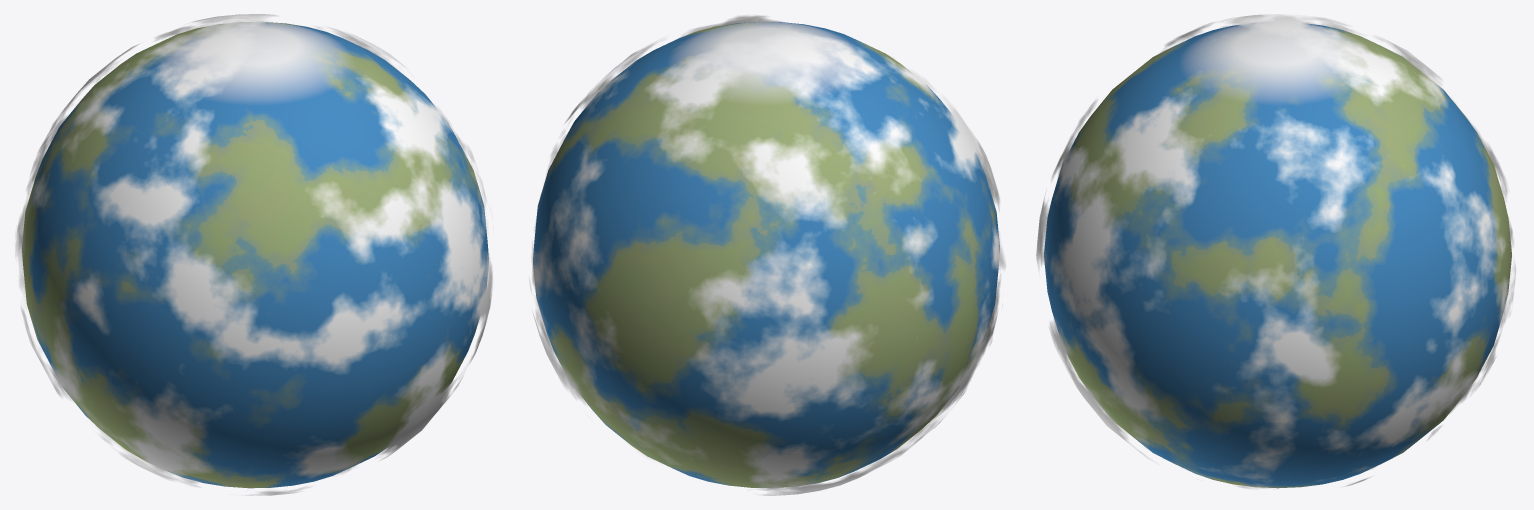
File: earth.glb
3 views of the same model, side by side, from view 1: azimuth 30°, elevation 25°; view 2: azimuth 150°, elevation 25°; view 3: azimuth 270°, elevation 25° (orthographic).
Parts seen in each view (by area): view 1: Earth, Earth_Clouds; view 2: Earth, Earth_Clouds; view 3: Earth, Earth_Clouds.
Part boxes in pixels (<box>): Earth: <box>22,21,488,488</box>; Earth_Clouds: <box>15,14,492,495</box>; Earth: <box>533,21,999,488</box>; Earth_Clouds: <box>529,15,1005,495</box>; Earth: <box>1044,23,1511,488</box>; Earth_Clouds: <box>1036,14,1515,488</box>.
Size of the model in its own units: 1.24 by 1.24 by 1.24.
Materials: 2 (2 with a texture image).
